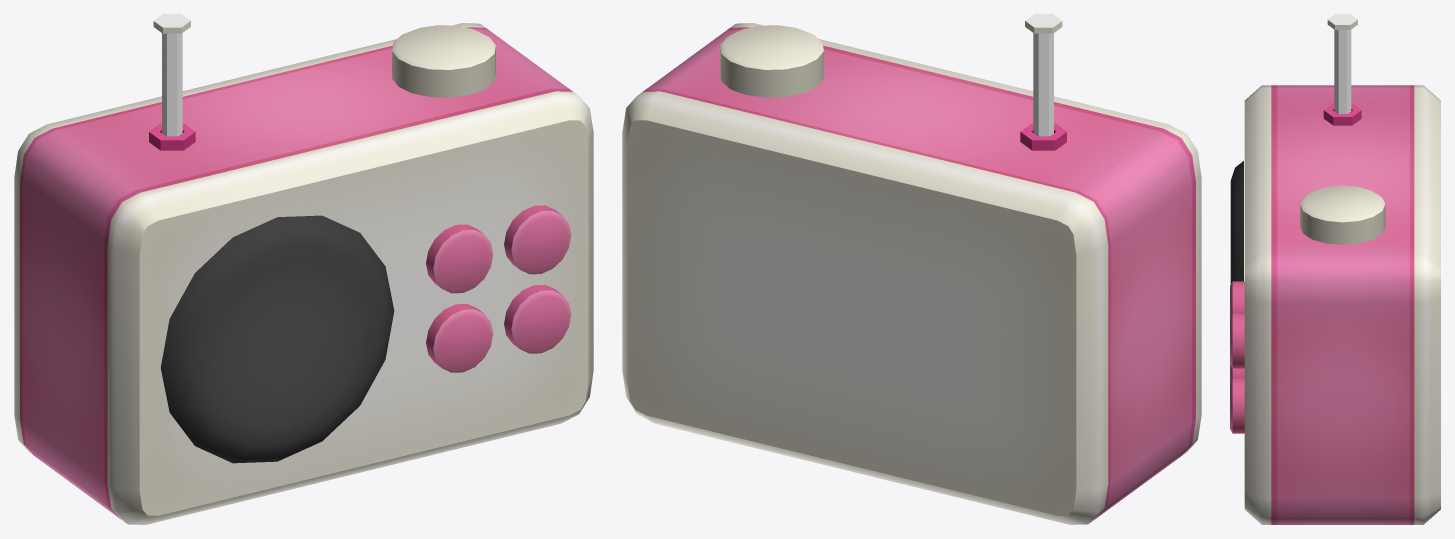
The model's file is ENV2010112.fbx.
The picture shows the model from 3 angles, left to right: view 1: azimuth 30°, elevation 25°; view 2: azimuth 150°, elevation 25°; view 3: azimuth 270°, elevation 25°; orthographic projection. The views are drawn at different scales.
Parts seen in each view (by area): view 1: smENV2010112; view 2: smENV2010112; view 3: smENV2010112.
Part boxes in pixels (x1,y1,x2,y2): smENV2010112: (14,14,593,524); smENV2010112: (622,14,1201,524); smENV2010112: (1230,14,1440,524).
Bounding box in the file's own units: 27.16 × 24.29 × 12.66.
Materials: 1 (1 with a texture image).
